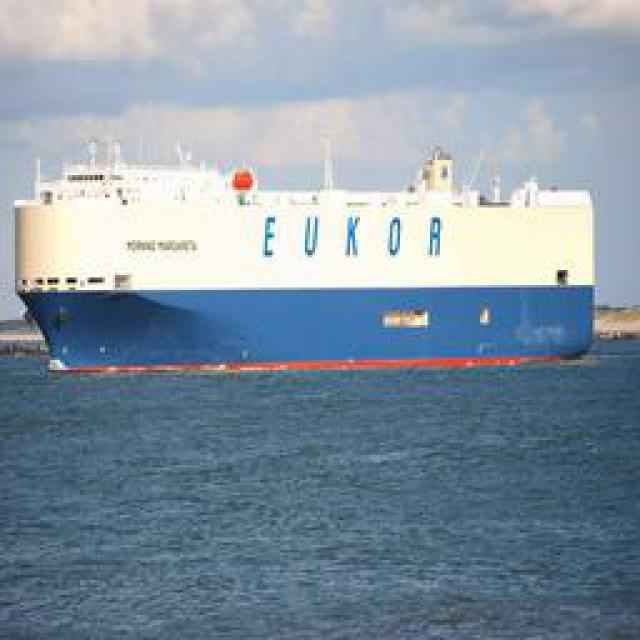Ship: (21, 146, 606, 381)
